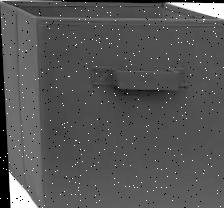cube: (0, 1, 224, 208)
